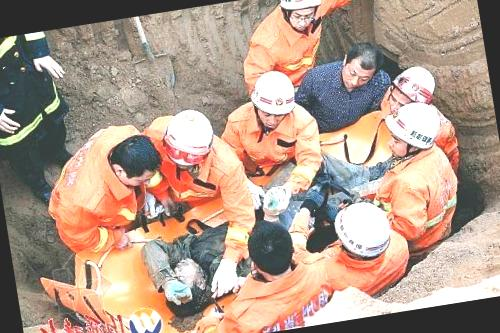no_helmet: (229, 215, 306, 284), (97, 126, 170, 195), (154, 255, 213, 314), (334, 36, 386, 92)
